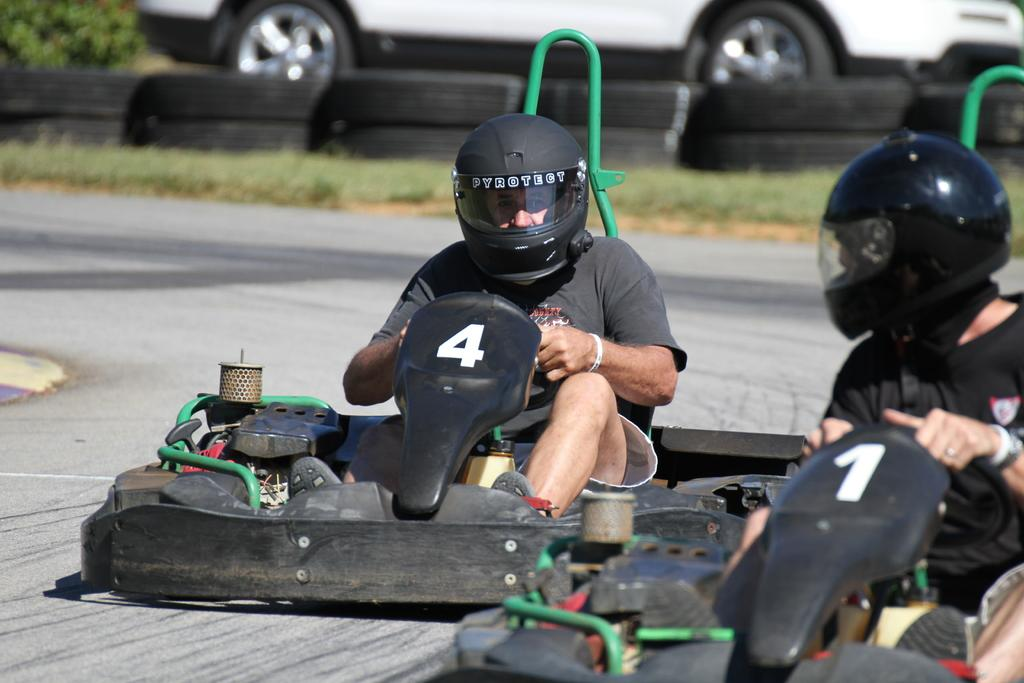helmet: (817, 131, 1013, 341), (452, 113, 589, 282)
